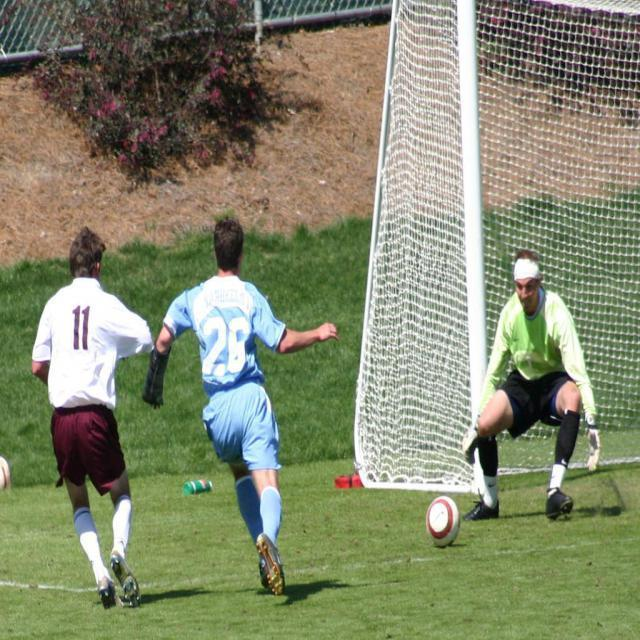football: (413, 495, 479, 551)
